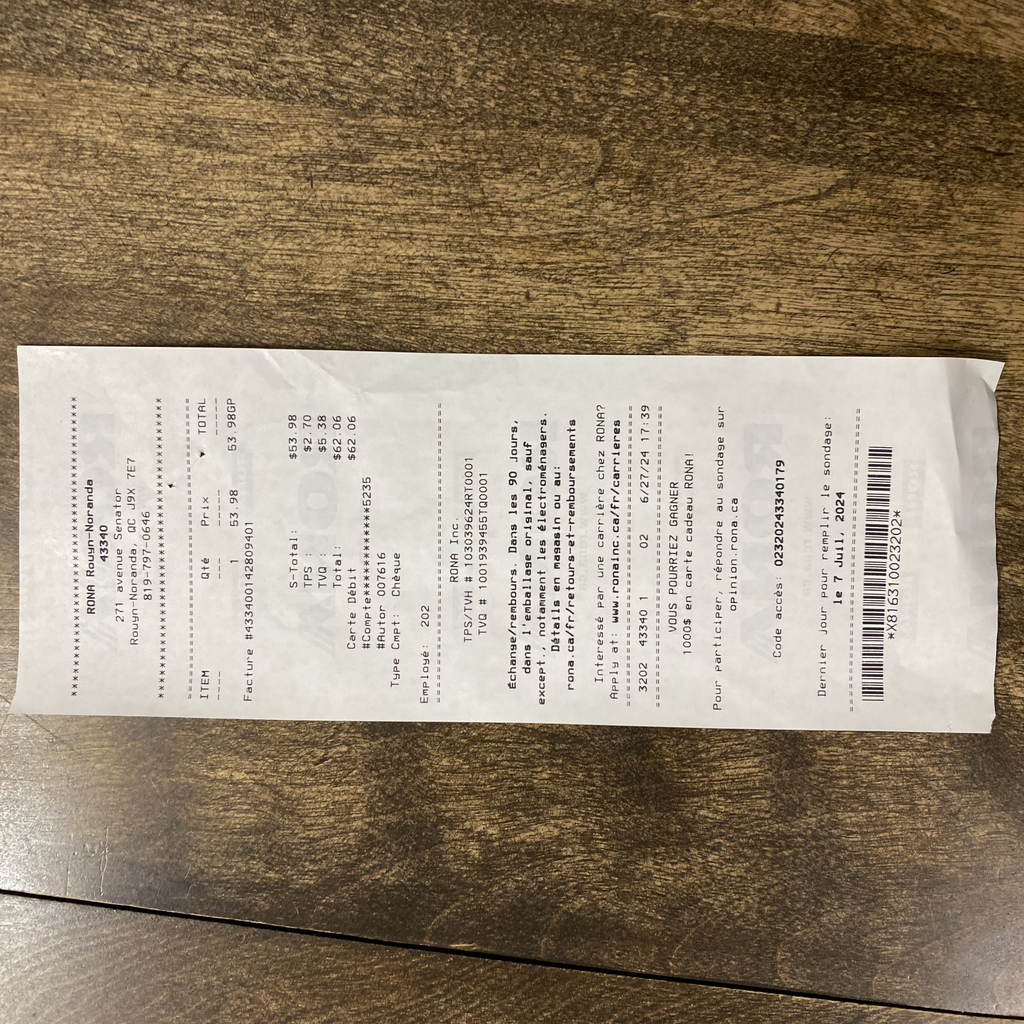recipt: (6, 340, 1003, 734)
